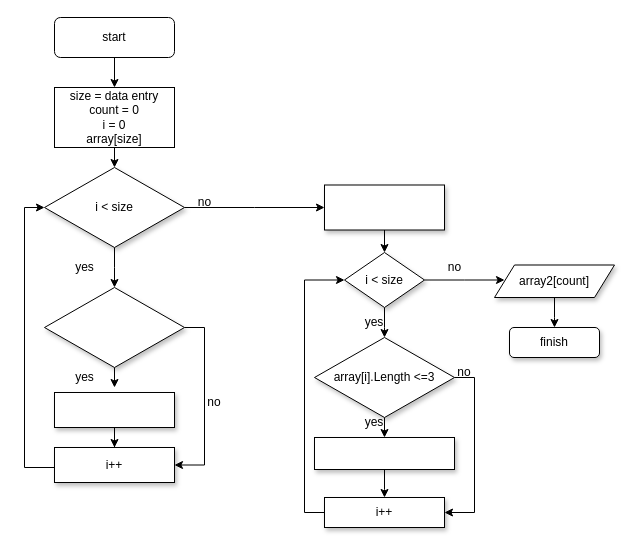
The diagram is 638 pixels wide and 552 high, and some of its shapes have lost their labels. The centre of each missing label's shape, as x and y in pixels:
"array2[count] = array[i] count++" belongs at [385,454].
"array2[count] i = 0 count = 0" belongs at [385,208].
"array[i].Length <= 3" belongs at [115,328].
"count++" belongs at [115,411].
